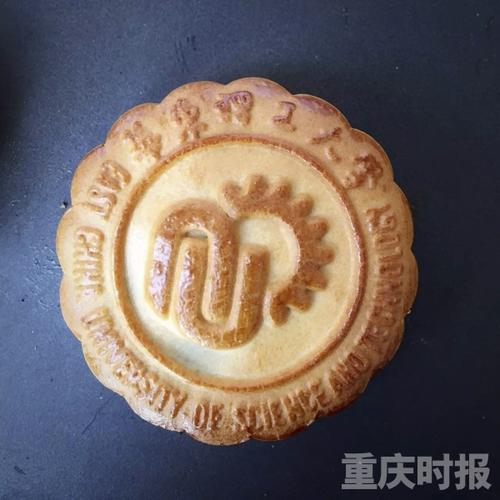MoonCake: (53, 75, 419, 449)
